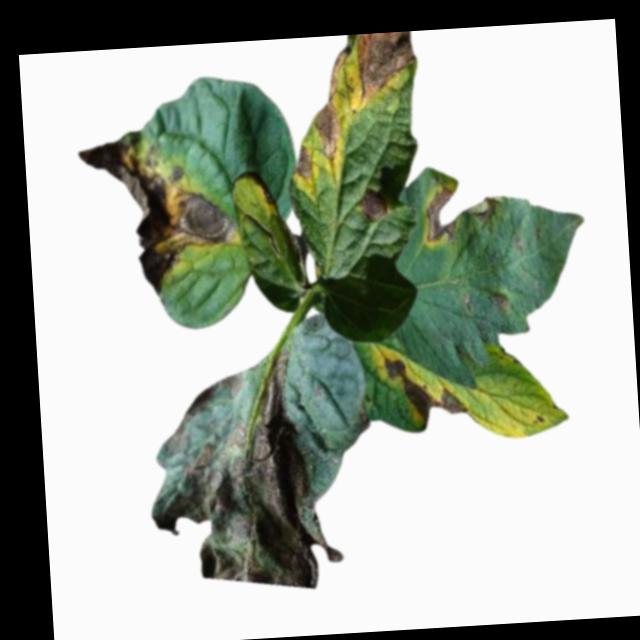Early_blight: (136, 344, 345, 600), (73, 128, 237, 301), (303, 31, 423, 159), (381, 347, 468, 426), (419, 175, 499, 247), (355, 186, 389, 225), (291, 143, 313, 182), (489, 290, 511, 312), (355, 409, 374, 433)
